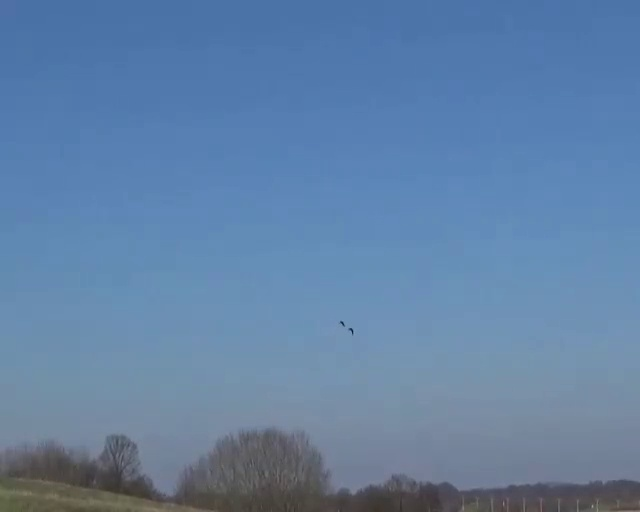BIRD: (339, 320, 354, 334)
